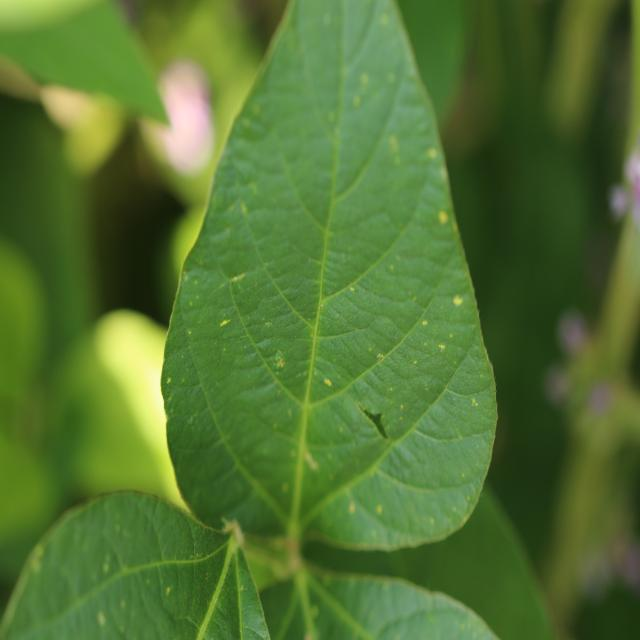Soybean: (0, 0, 501, 640)
downey_mildew: (0, 95, 88, 372), (318, 433, 494, 548), (237, 173, 345, 330), (342, 218, 433, 394), (282, 0, 353, 214), (315, 129, 412, 271), (284, 234, 327, 551), (39, 510, 161, 614), (370, 286, 471, 410), (0, 510, 87, 640), (233, 354, 340, 458), (544, 0, 621, 129), (365, 413, 489, 487), (173, 251, 248, 373), (300, 515, 423, 585), (306, 117, 337, 391), (114, 550, 204, 636), (190, 471, 297, 542), (287, 564, 378, 639), (301, 386, 385, 459), (192, 535, 244, 640), (192, 200, 253, 283), (148, 502, 220, 565), (163, 321, 209, 404), (235, 553, 273, 640), (340, 2, 384, 71), (369, 610, 444, 640)
